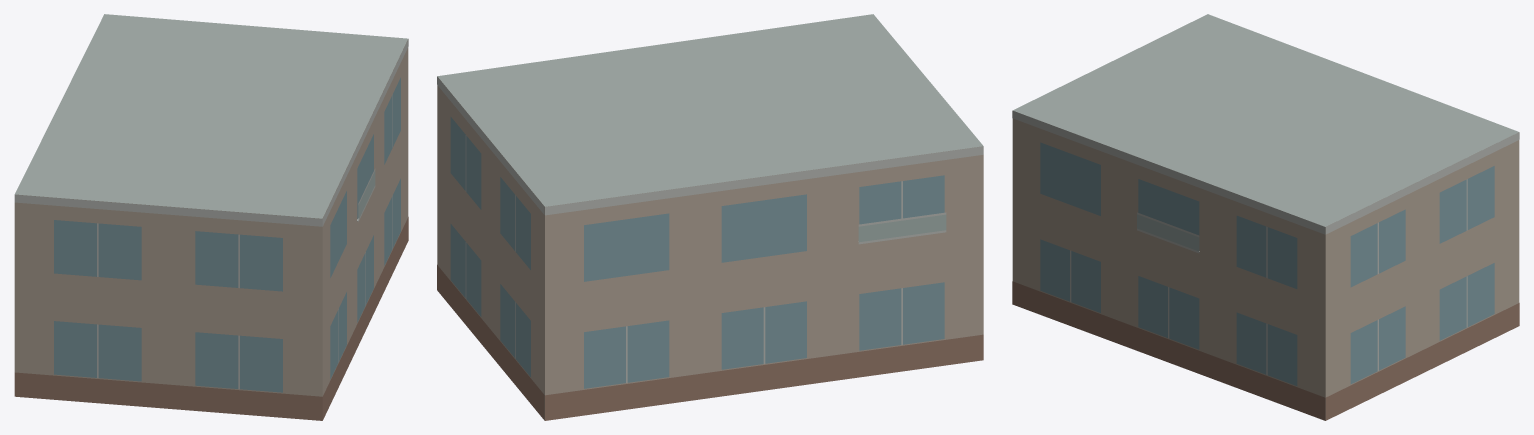
Rendered from survey-upis-32667567.glb.
3 views of the same model, side by side, from view 1: azimuth 30°, elevation 25°; view 2: azimuth 150°, elevation 25°; view 3: azimuth 270°, elevation 25° (orthographic). The views are drawn at different scales.
Parts seen in each view (by area): view 1: survey-upis-32667567.tmp; view 2: survey-upis-32667567.tmp; view 3: survey-upis-32667567.tmp.
Part boxes in pixels (left/top/right/bottom): survey-upis-32667567.tmp: left=14, top=14, right=408, bottom=420; survey-upis-32667567.tmp: left=437, top=14, right=983, bottom=420; survey-upis-32667567.tmp: left=1012, top=14, right=1519, bottom=420.
Size of the model in its own units: 14.38 by 6.1 by 14.46.
